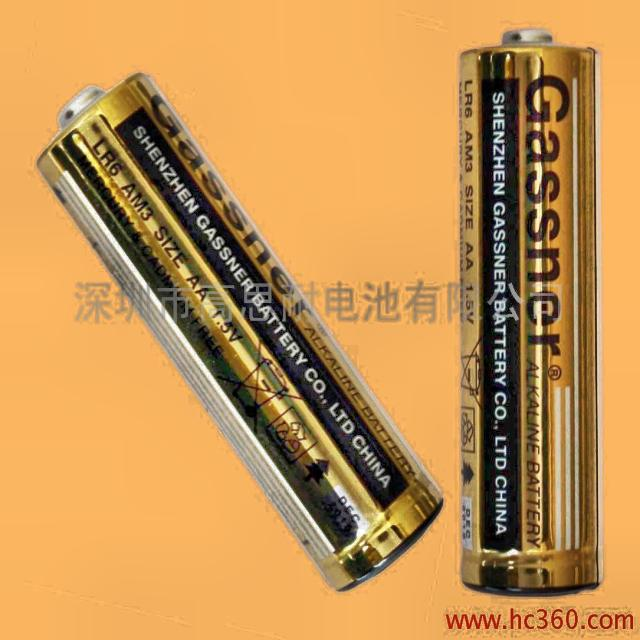Non-Valuable Waste - Batteries: (39, 73, 442, 590), (460, 30, 601, 595)
